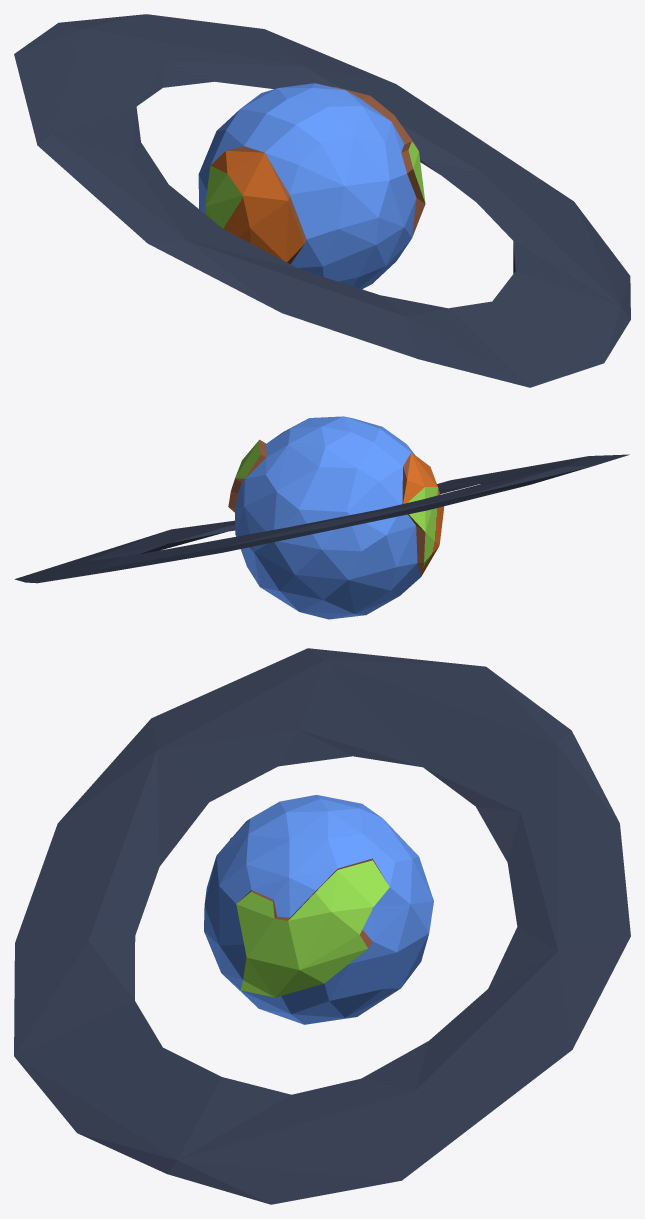
Rendered from Planet10.glb.
3 renders of one model, top to bottom at view 1: azimuth 30°, elevation 25°; view 2: azimuth 150°, elevation 25°; view 3: azimuth 270°, elevation 25°, orthographic. The views are drawn at different scales.
Parts seen in each view (by area): view 1: Planet10; view 2: Planet10; view 3: Planet10.
Part boxes in pixels (bbox=[...]): Planet10: bbox=[14, 14, 630, 387]; Planet10: bbox=[14, 416, 629, 619]; Planet10: bbox=[14, 648, 630, 1204].
Bounding box in the file's own units: 34.28 × 15.23 × 30.45.
1 material, 1 textured.
